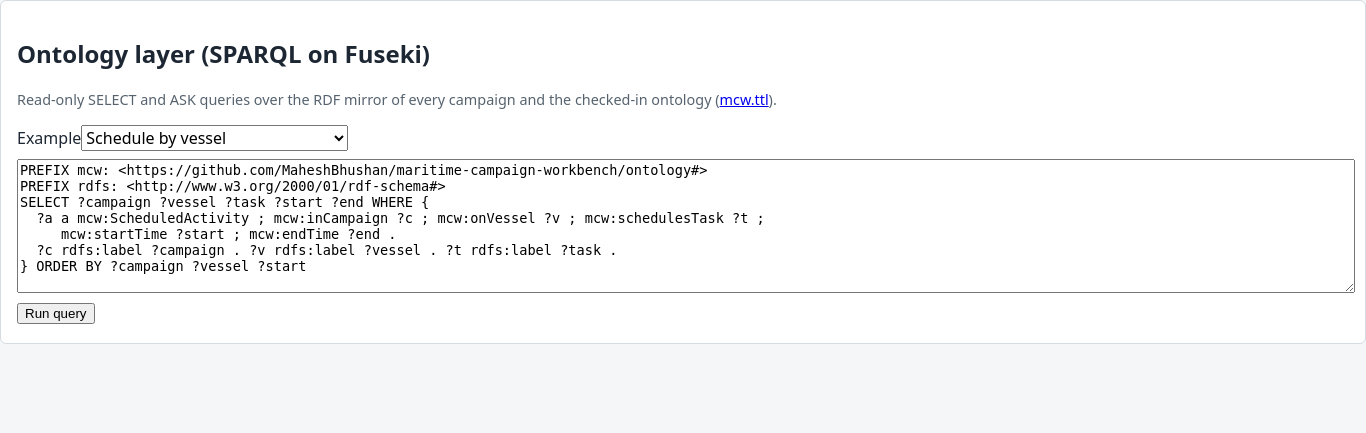
Scenario: SparqlConsole › runs the query and renders the result table
Click the button "Run query": (56, 313) [17,303,94,324]
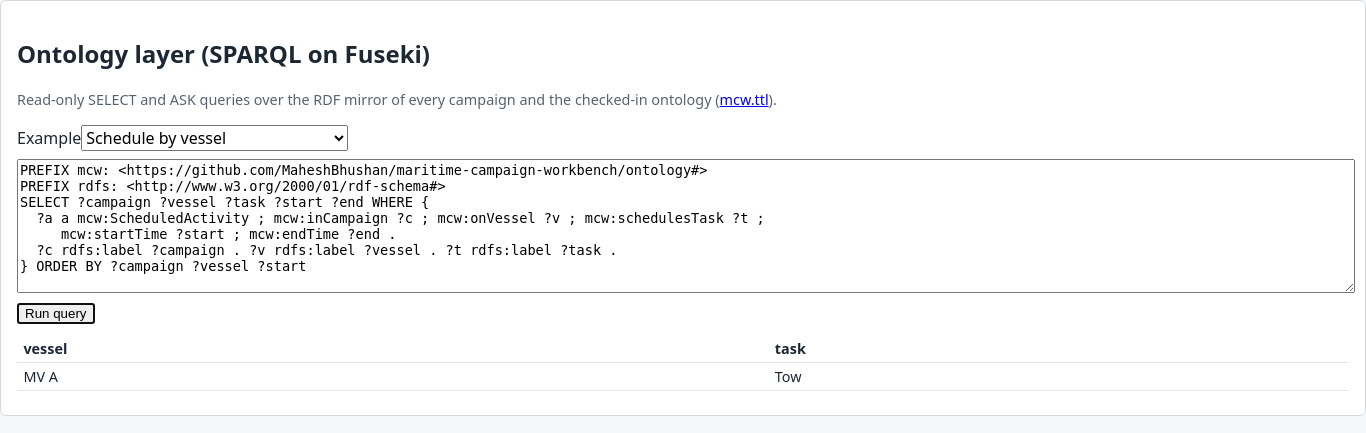
Now the table named "sparql results" reads "vessel task MV A Tow", box [17,335,1349,391]
